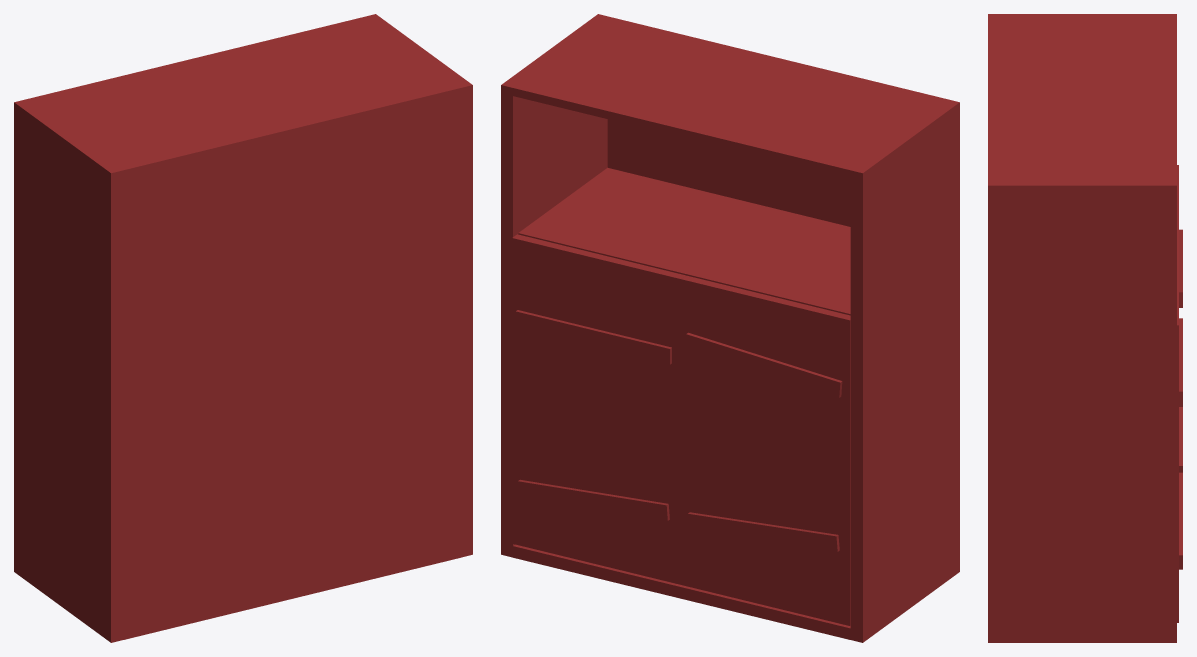
File: Closet.FBX
The picture shows the model from 3 angles, left to right: view 1: azimuth 30°, elevation 25°; view 2: azimuth 150°, elevation 25°; view 3: azimuth 270°, elevation 25°; orthographic projection. The views are drawn at different scales.
Parts seen in each view (by area): view 1: Closet; view 2: Closet, Closet_DoorL, Closet_DoorR; view 3: Closet, Closet_DoorR, Closet_DoorL.
Boxes of the visible parts, x1=… form: Closet: x1=14, y1=14, x2=472, y2=642; Closet: x1=501, y1=14, x2=959, y2=642; Closet_DoorL: x1=681, y1=275, x2=850, y2=625; Closet_DoorR: x1=512, y1=234, x2=685, y2=584; Closet: x1=988, y1=14, x2=1176, y2=642; Closet_DoorR: x1=1177, y1=245, x2=1182, y2=622; Closet_DoorL: x1=1177, y1=165, x2=1182, y2=472.
Size of the model in its own units: 1100 by 1365 by 527.
